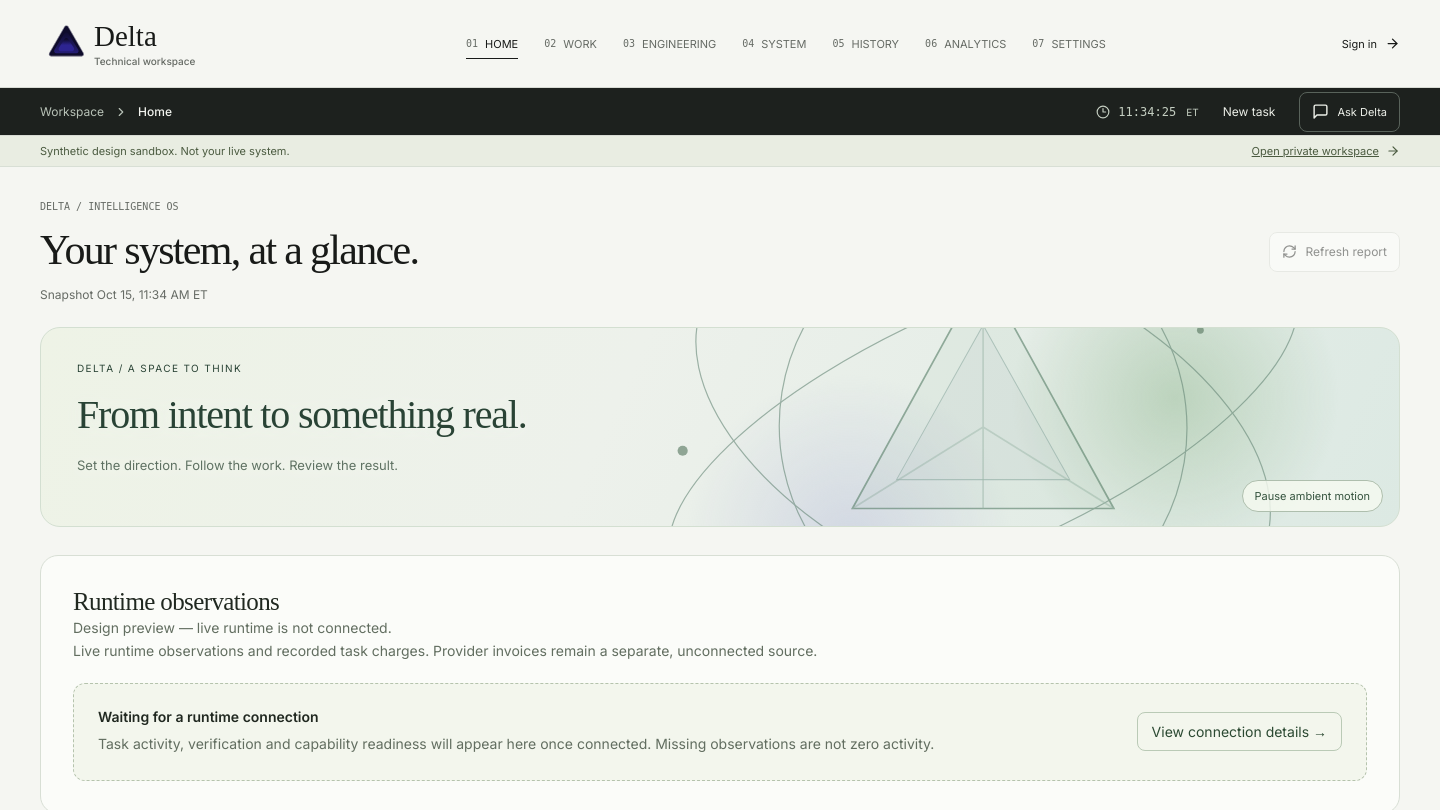
Test case: preserves task draft across workspace navigation and distinguishes source from deployment
Click the link "02 Work".
click(571, 44)  # box [544,24,597,62]
(page scrolled)
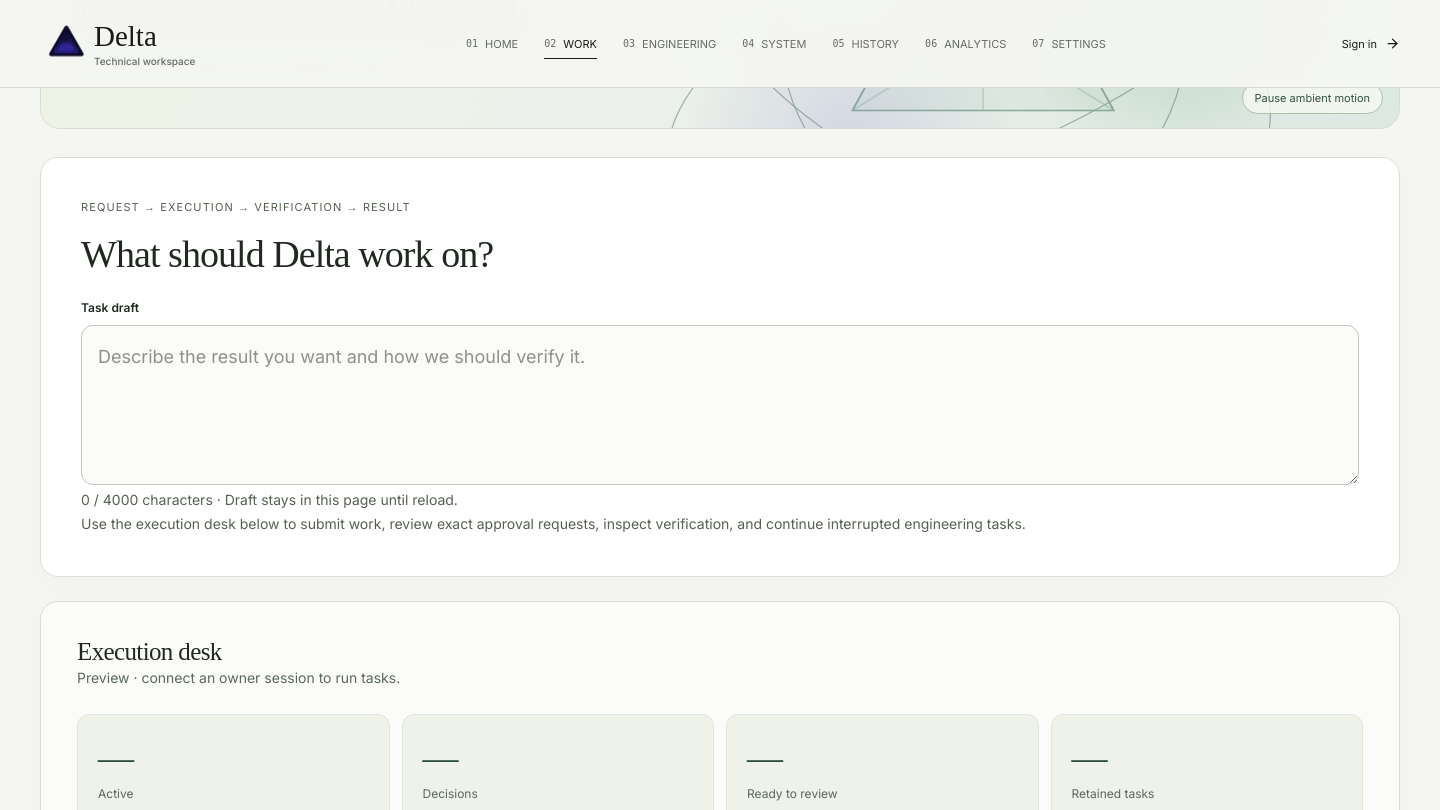
Type "Inspect the failing test" into the text box labelled "Task draft".
click(720, 405); type("Inspect the failing test")  # box [81,325,1359,485]
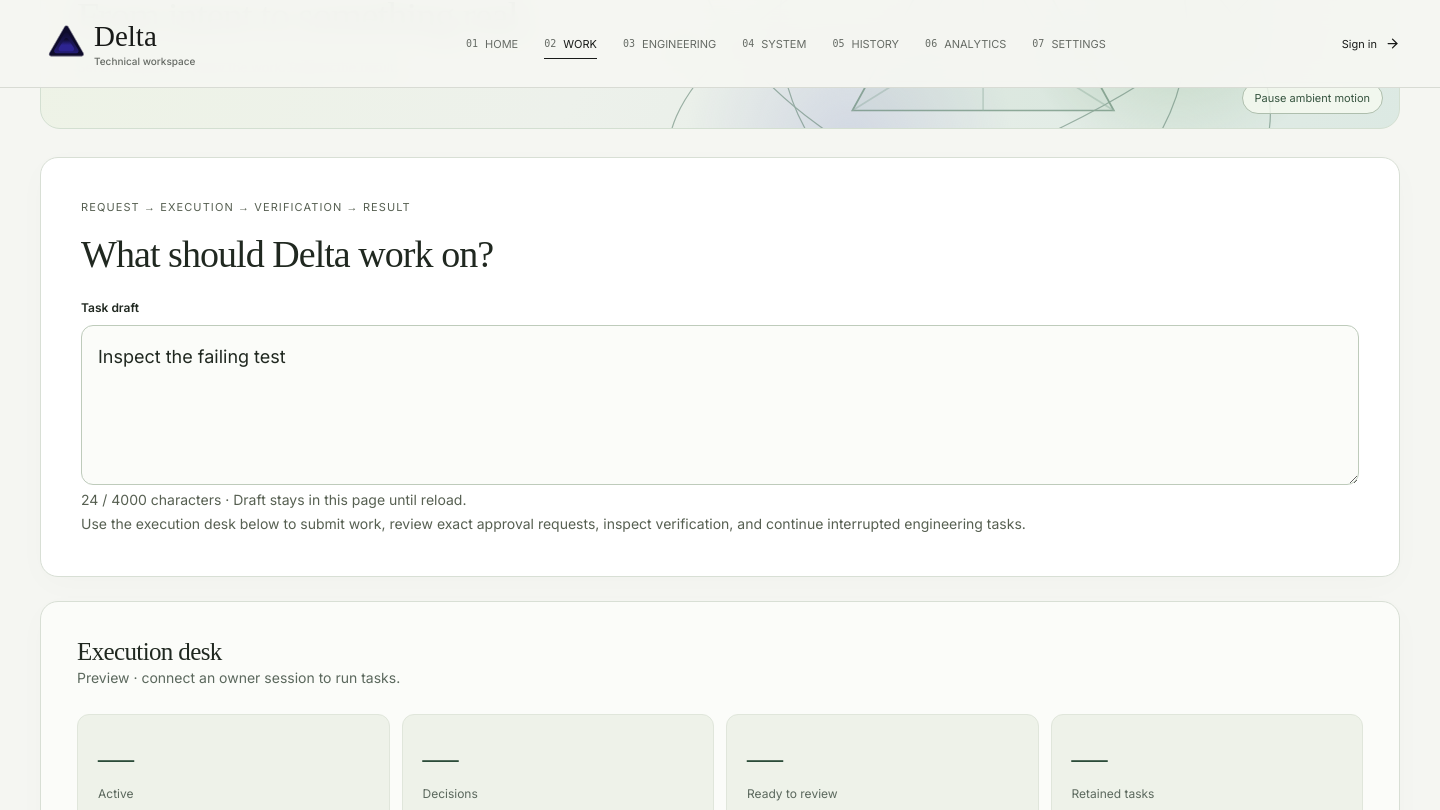
Click the link "03 Engineering".
click(670, 44)  # box [623,24,716,62]
(page scrolled)
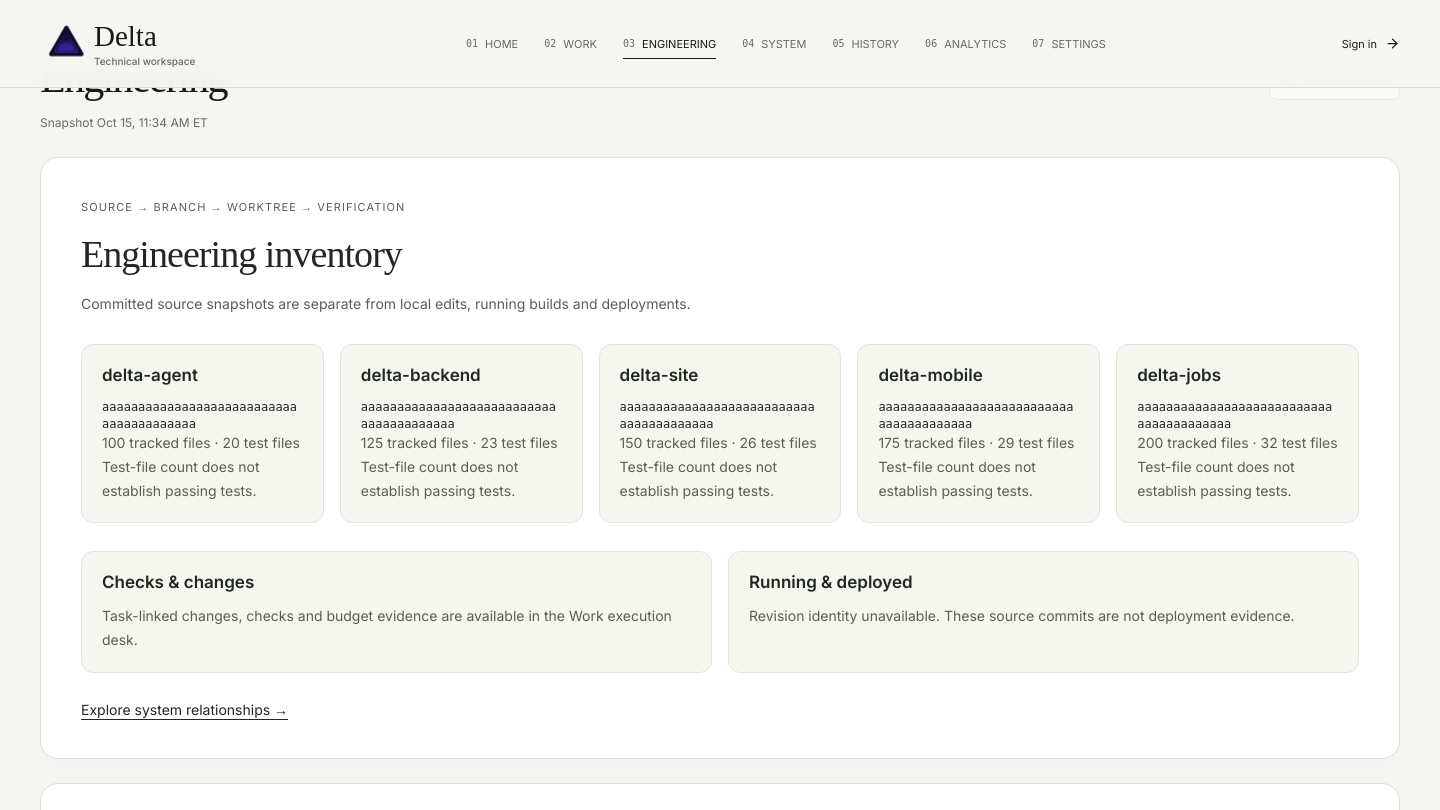
Check: the text "Revision identity unavailable" is shown, box [749,608,1295,624]
Click the link "02 Work".
click(571, 44)  # box [544,24,597,62]
(page scrolled)
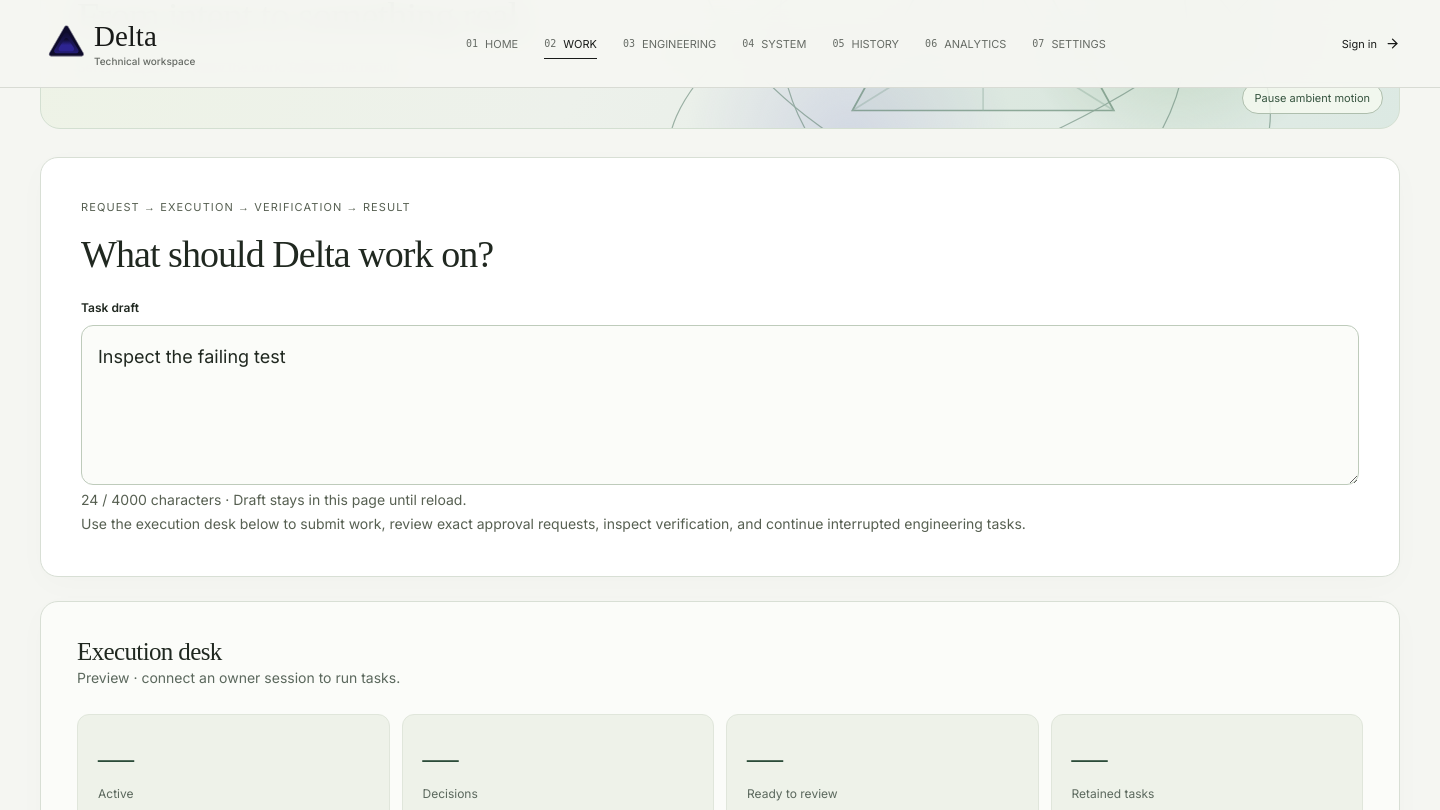
Check: the text box labelled "Task draft" holds "Inspect the failing test", box [81,325,1359,485]
